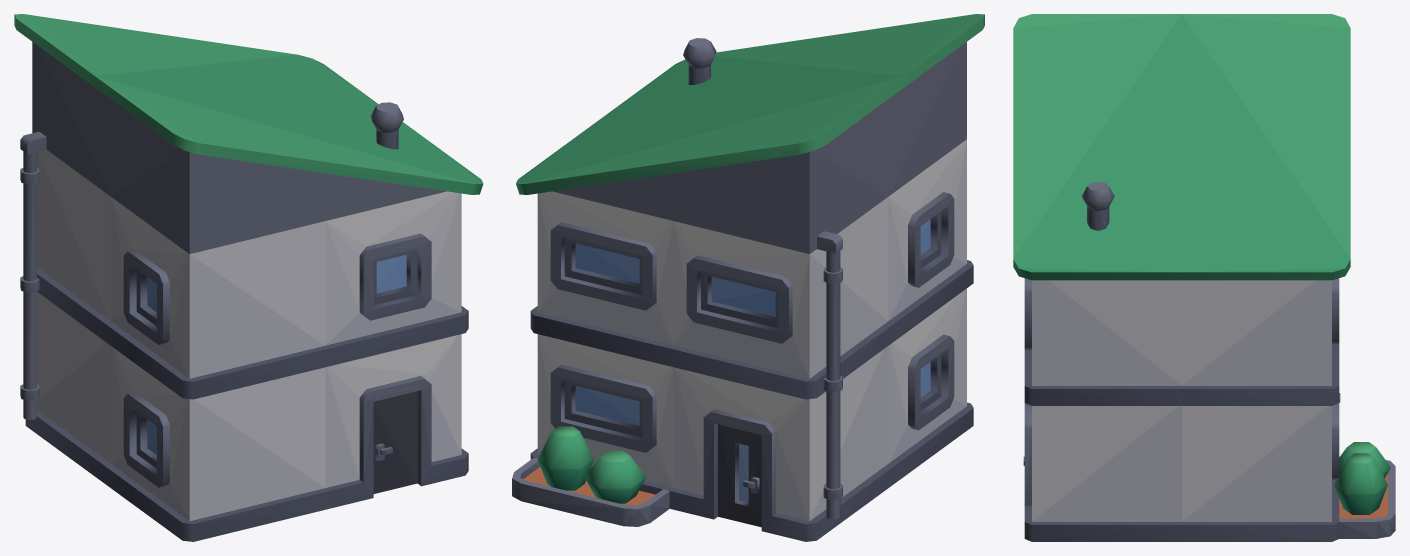
The picture shows the model from 3 angles, left to right: view 1: azimuth 30°, elevation 25°; view 2: azimuth 150°, elevation 25°; view 3: azimuth 270°, elevation 25°; orthographic projection. The views are drawn at different scales.
Visible parts, largest first — view 1: building-type-k; view 2: building-type-k; view 3: building-type-k.
Boxes of the visible parts, x1,y1,x2,y2 form: building-type-k: (14, 14, 483, 541); building-type-k: (512, 14, 984, 541); building-type-k: (1013, 14, 1395, 541).
Size of the model in its own units: 0.921 by 1.15 by 1.02.
